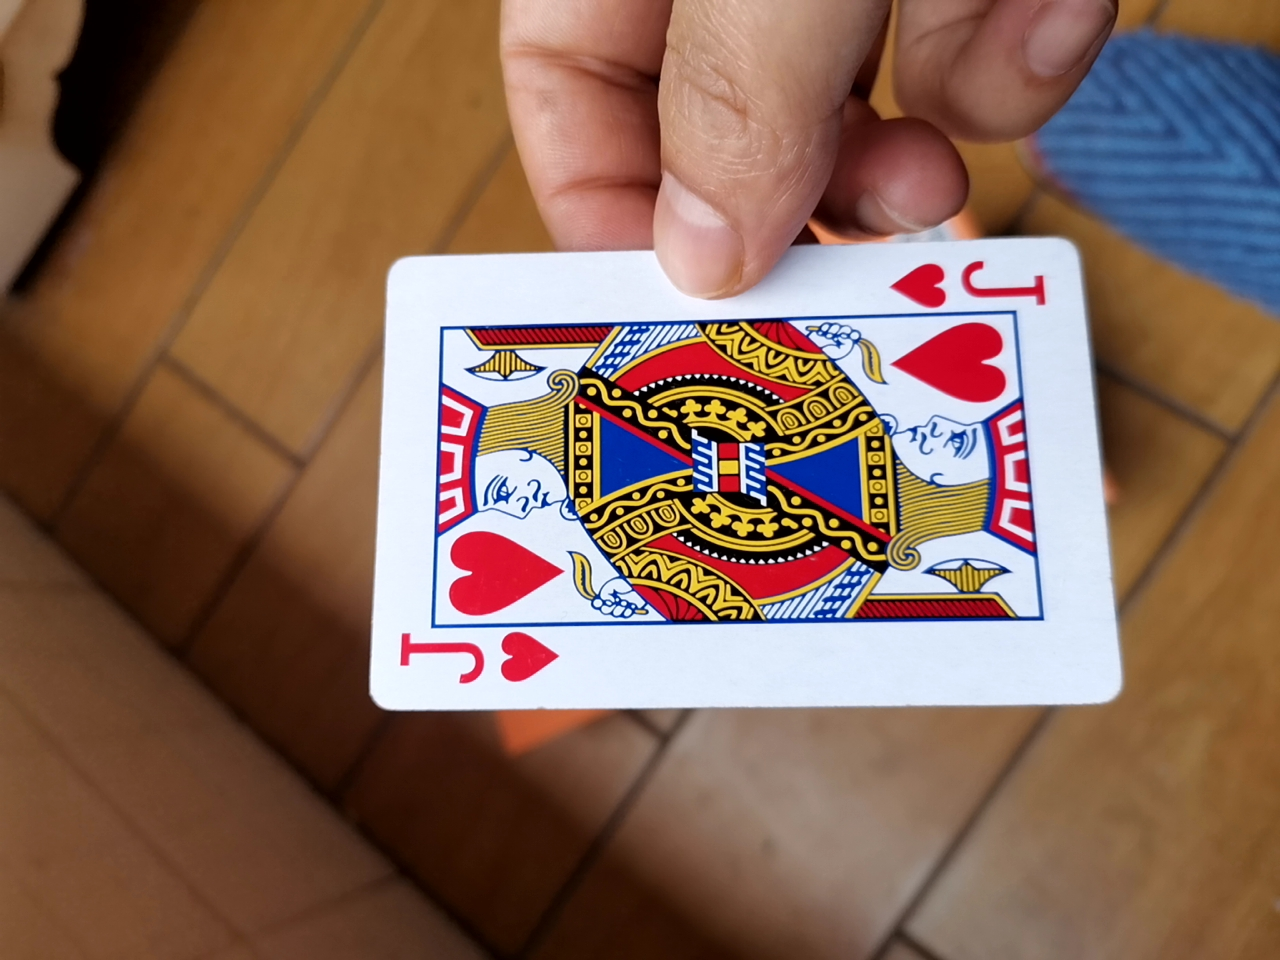hx j: (349, 245, 1113, 727)
